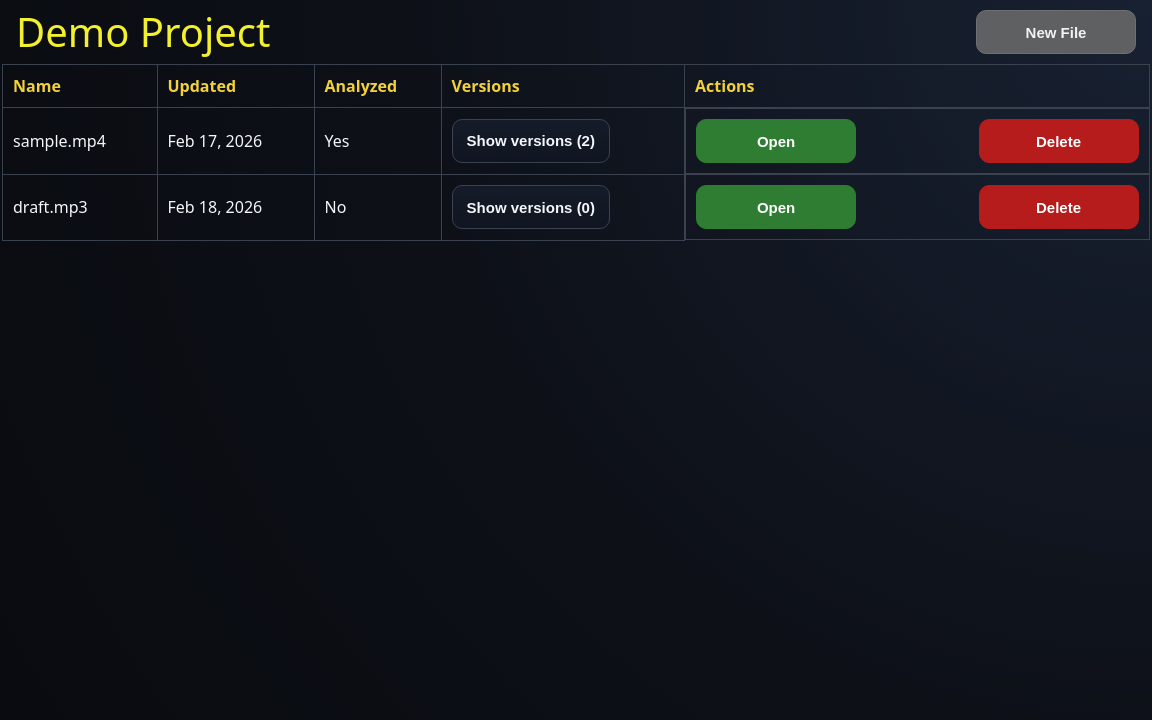
Test: FilesPage › shows analysis versions only after expanding a file row
The width and height of the screenshot is (1152, 720).
Expected: the row named "file-row-file-1" is shown, [2,108,1150,174]
Expected: the text "Subs: Bi-sim" is not shown
Click the button with aria-label "toggle-versions-file-1" at (531, 141), box [452,119,610,163]
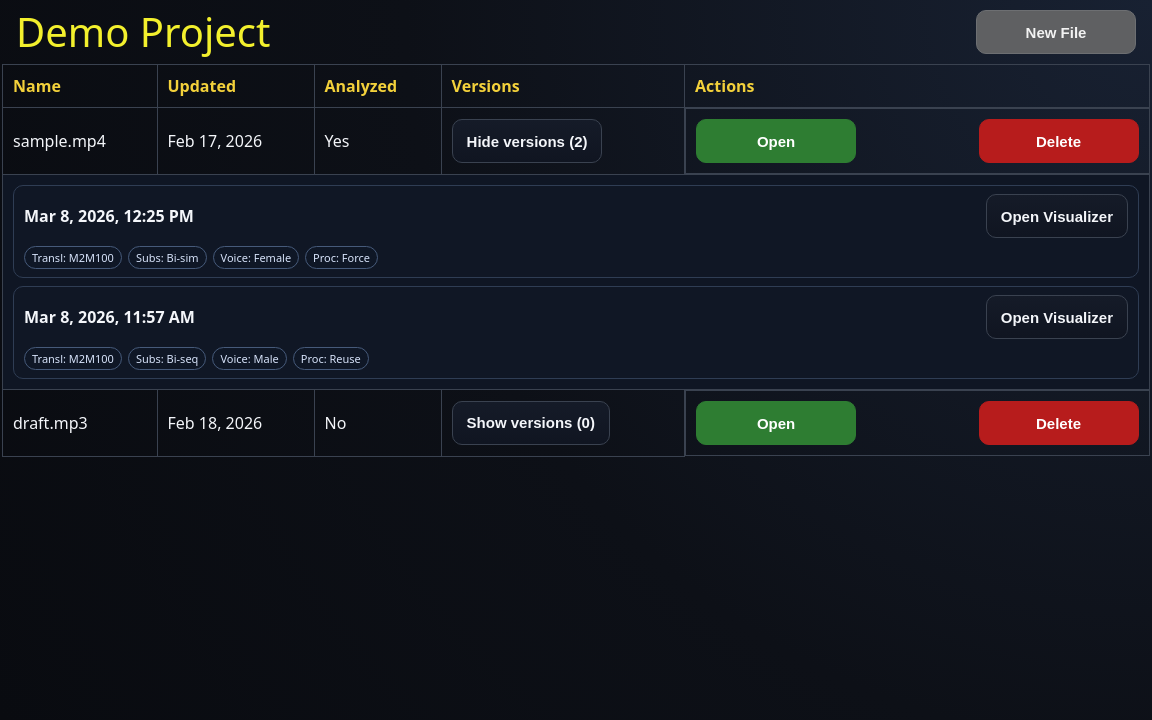
Expected: the text "Proc: Force" is shown, [305,246,378,269]
